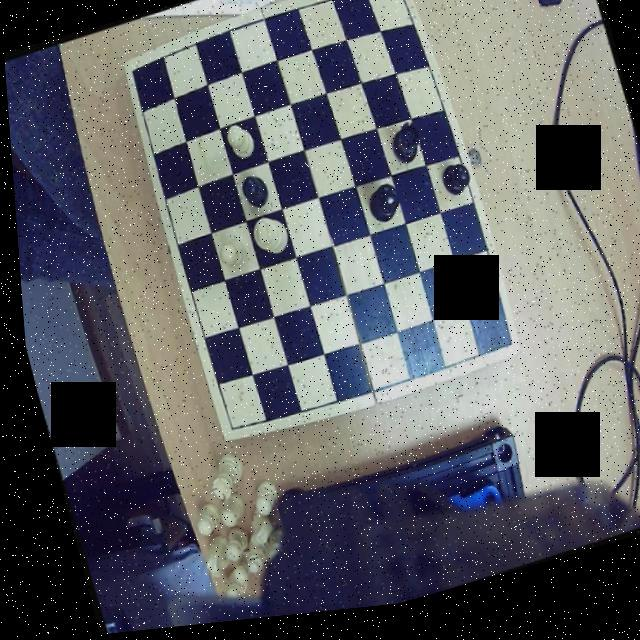chess-table-corners: (486, 336, 514, 366), (214, 418, 241, 446), (121, 60, 144, 92), (382, 0, 405, 7)
